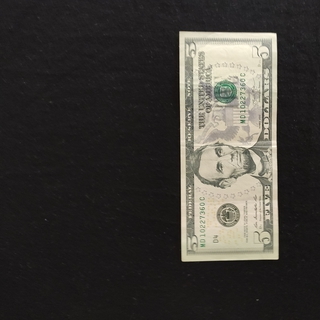5USDFront: (177, 29, 280, 263)
